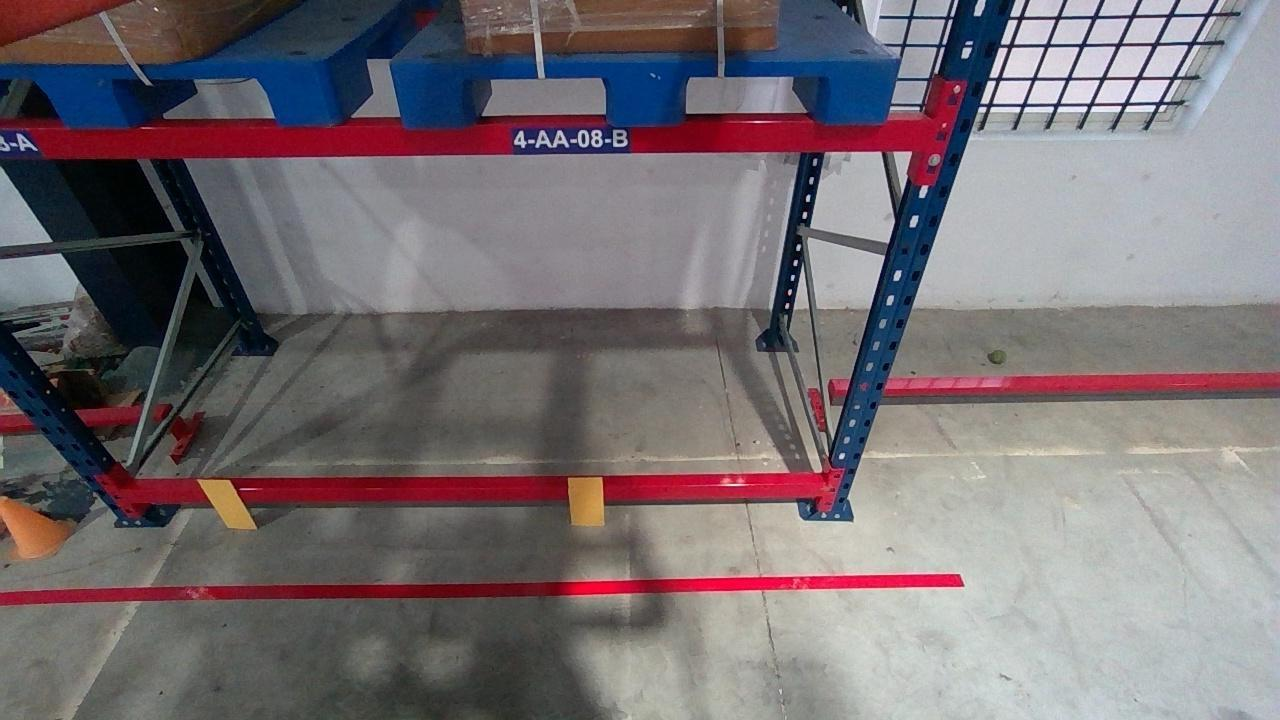h_rack: (4, 116, 938, 157), (115, 481, 826, 503)
orange_strip: (194, 479, 258, 528), (566, 477, 604, 525)
red_line: (0, 573, 962, 600)
small_pallet: (383, 58, 900, 121), (1, 61, 332, 125)
